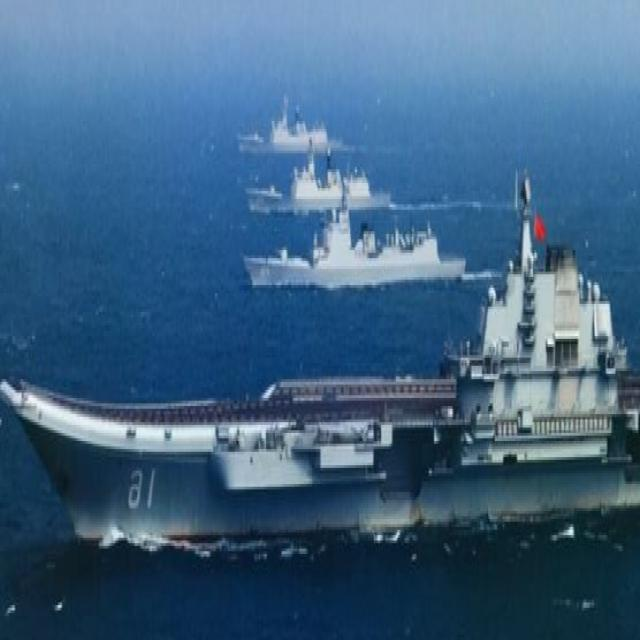navalvessels: (6, 180, 640, 608), (253, 189, 454, 294), (248, 89, 342, 179), (264, 138, 378, 211)
